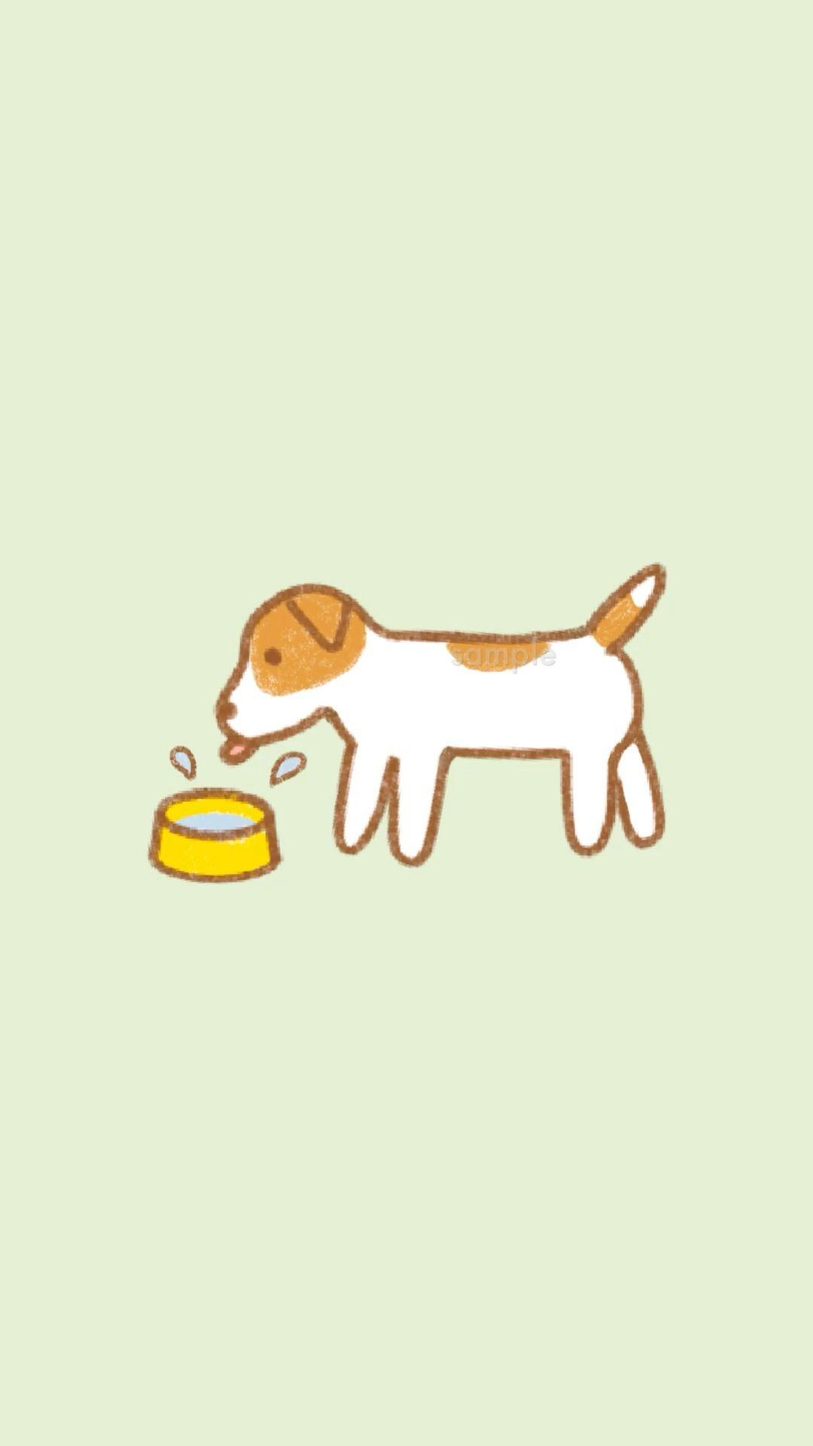adult_dog: (212, 563, 671, 867)
